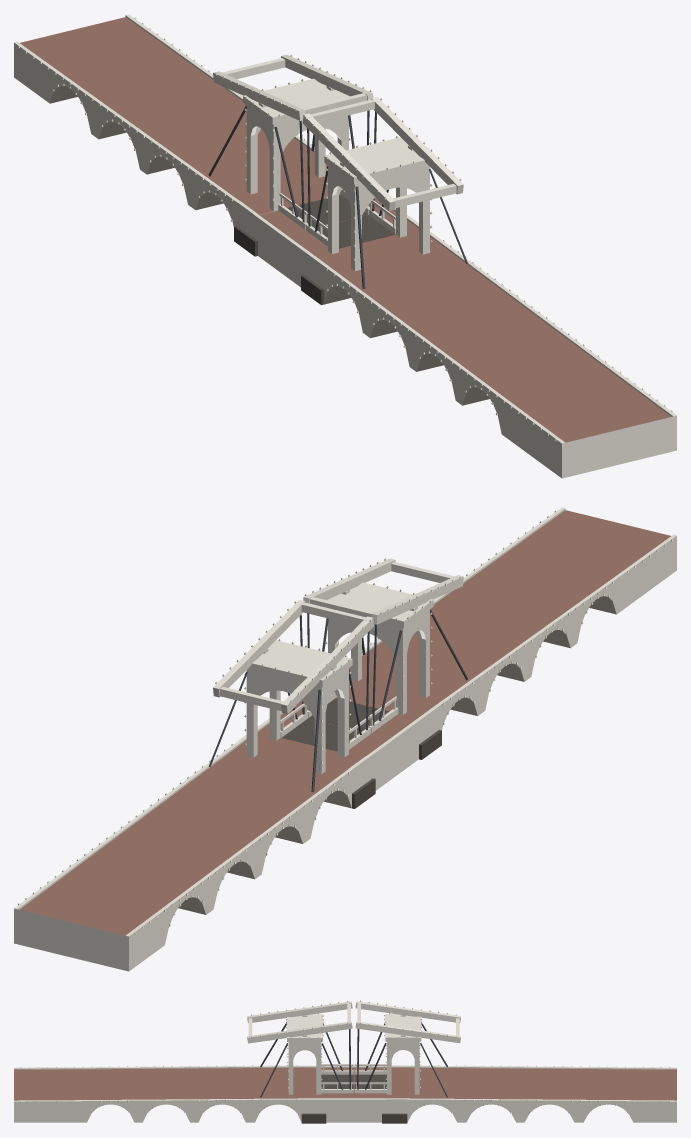
The model's file is amsterdam-magere-brug.glb.
3 renders of one model, top to bottom at view 1: azimuth 30°, elevation 25°; view 2: azimuth 150°, elevation 25°; view 3: azimuth 270°, elevation 25°, orthographic. The views are drawn at different scales.
Visible parts, largest first — view 1: Magere Brug; view 2: Magere Brug; view 3: Magere Brug.
Part boxes in pixels (x1,y1,x2,y2): Magere Brug: (14, 14, 676, 478); Magere Brug: (14, 507, 676, 971); Magere Brug: (14, 1000, 676, 1123).
Bounding box in the file's own units: 10.3 × 12.69 × 80.9.
